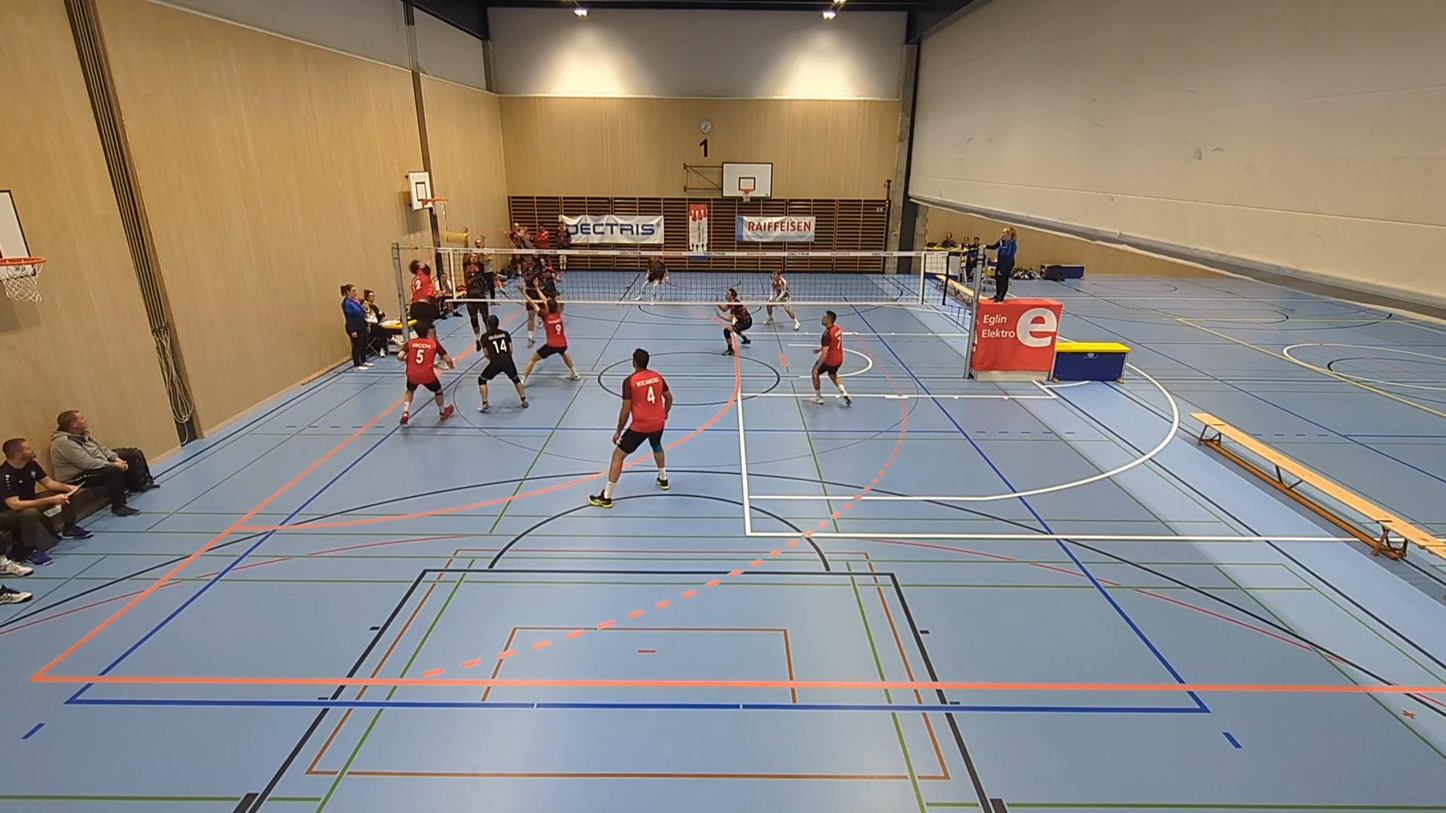Attack: (400, 231, 445, 342)
Block: (506, 222, 553, 342), (453, 228, 492, 338)
Player: (589, 349, 672, 507), (400, 322, 454, 425), (522, 298, 579, 384), (478, 315, 528, 412), (810, 311, 850, 405), (715, 288, 752, 354), (765, 269, 801, 330), (636, 258, 668, 300), (537, 257, 562, 300)
ball: (446, 230, 462, 248)
